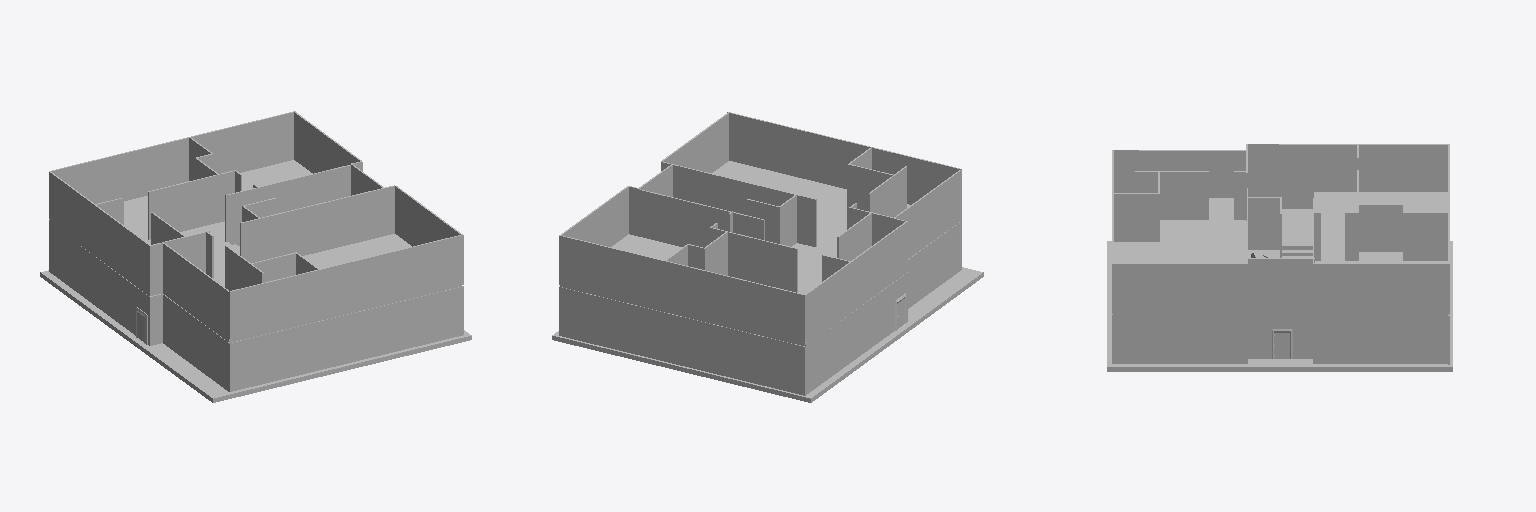
File: Level Design.obj
3 renders of one model, left to right at view 1: azimuth 30°, elevation 25°; view 2: azimuth 150°, elevation 25°; view 3: azimuth 270°, elevation 25°, orthographic.
Parts seen in each view (by area): view 1: Walls_-_Second_Floor, Walls_-_First_Floor, Second_Floor, First_Floor; view 2: Walls_-_Second_Floor, Walls_-_First_Floor, Second_Floor, First_Floor; view 3: Walls_-_Second_Floor, Walls_-_First_Floor, Second_Floor, First_Floor, Front_Door.
Boxes of the visible parts, <box> form: Walls_-_Second_Floor: <box>49,111,463,341</box>; Walls_-_First_Floor: <box>49,224,463,391</box>; Second_Floor: <box>49,160,461,343</box>; First_Floor: <box>40,270,471,402</box>; Walls_-_Second_Floor: <box>559,112,961,344</box>; Walls_-_First_Floor: <box>559,221,961,395</box>; Second_Floor: <box>560,161,961,346</box>; First_Floor: <box>552,267,983,402</box>; Walls_-_Second_Floor: <box>1112,144,1449,313</box>; Walls_-_First_Floor: <box>1112,309,1449,364</box>; Second_Floor: <box>1113,192,1448,315</box>; First_Floor: <box>1107,241,1452,371</box>; Front_Door: <box>1272,329,1292,358</box>.
Bounding box in the file's own units: 44.28 × 17.17 × 51.16.